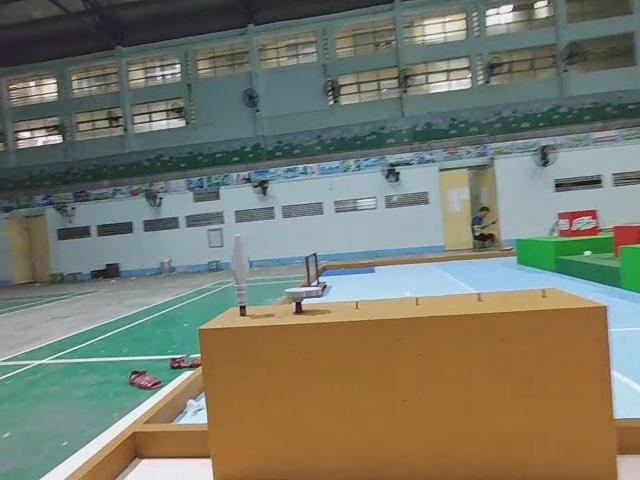Hand: (283, 283, 323, 315)
Sph: (229, 234, 252, 317)
